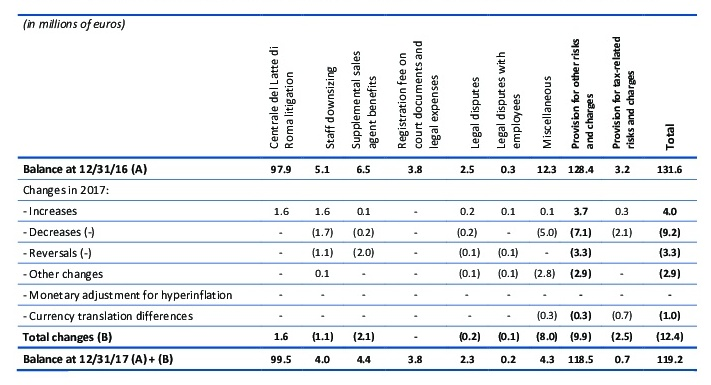table: (0, 0, 711, 385)
